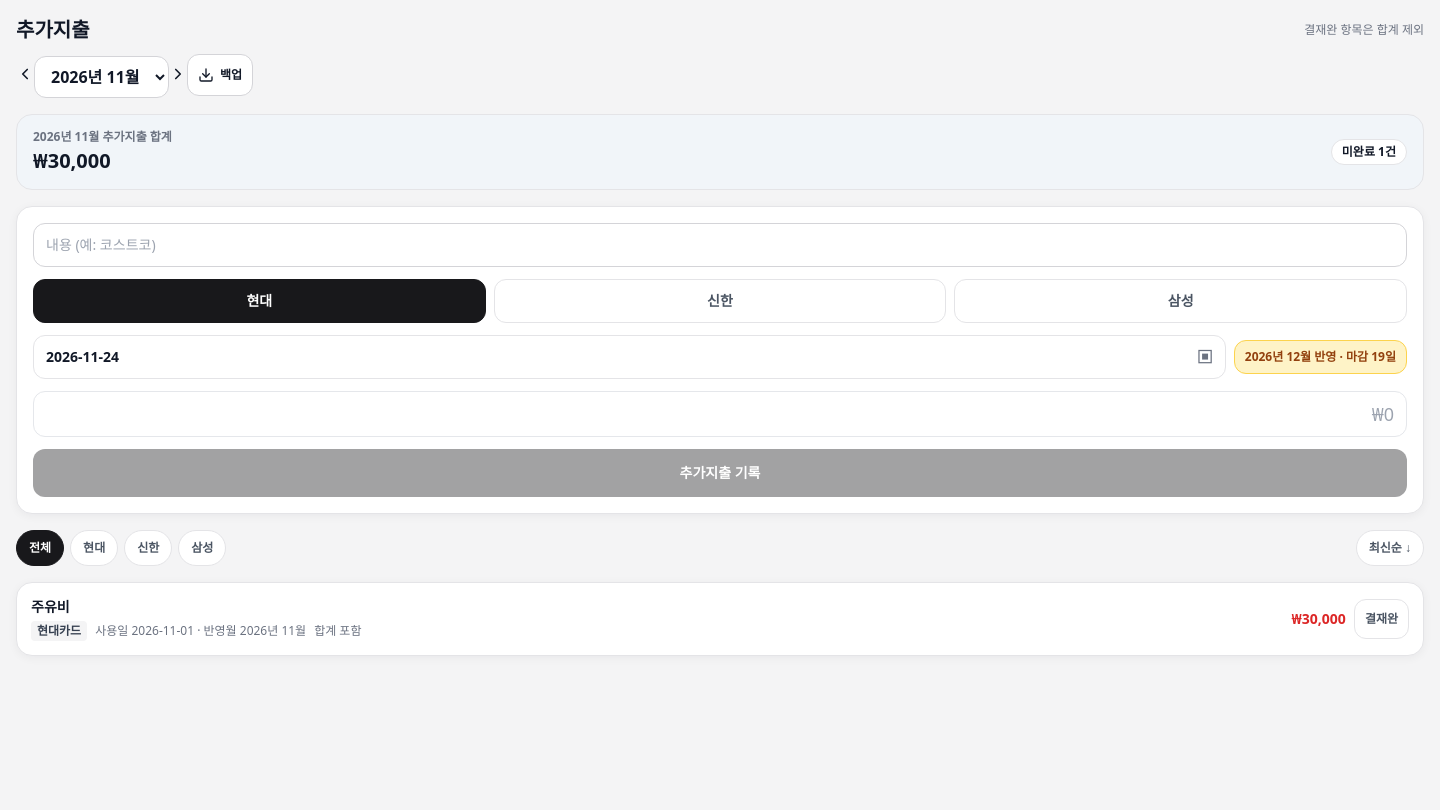
it: ExtraSpendingPage › keeps a settled entry visible, excludes it from the total, and restores it on cancel
The width and height of the screenshot is (1440, 810).
Check: the text "2026년 11월 추가지출 합계 ₩30,000 미완료 1건" is shown, box [16,114,1424,190]
Click the button "결재완".
click(1381, 619)  # box [1354,599,1409,639]
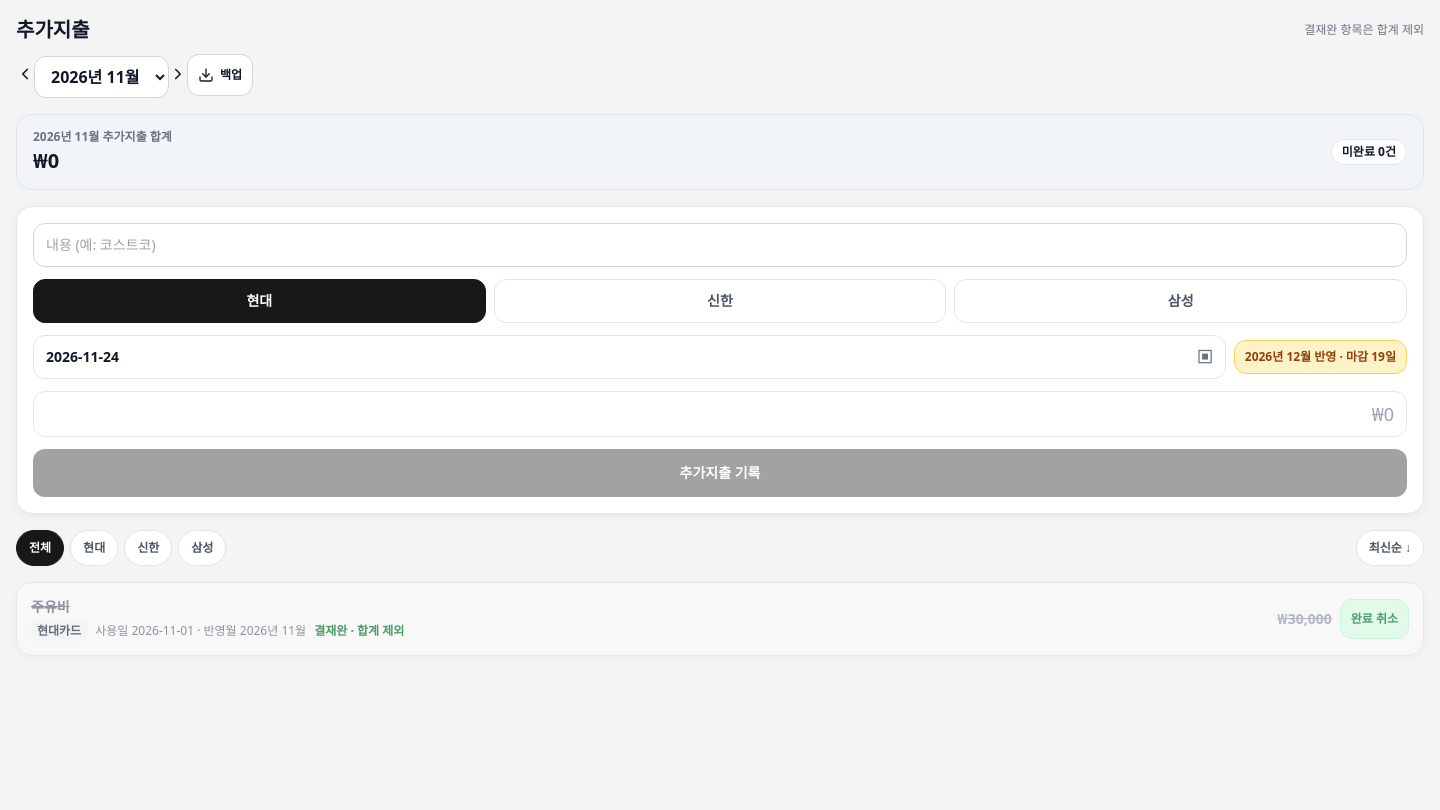
Check: the text "결재완 · 합계 제외" is shown, box [314,623,404,639]
Check: the text "2026년 11월 추가지출 합계 ₩0 미완료 0건" is shown, box [16,114,1424,190]
Click the button "완료 취소".
click(1374, 619)  # box [1340,599,1409,639]
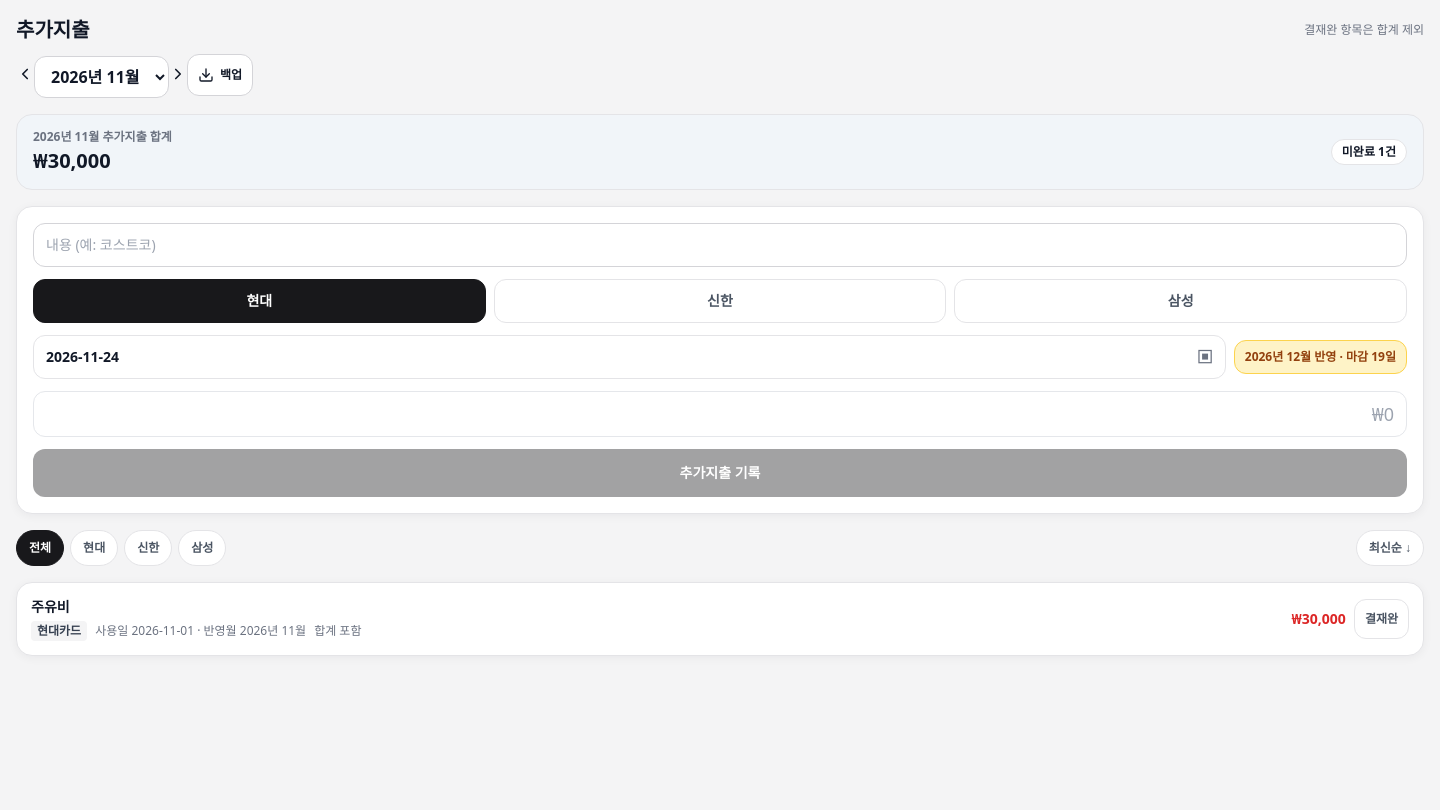
Check: the text "합계 포함" is shown, box [314,623,362,639]
Check: the text "2026년 11월 추가지출 합계 ₩30,000 미완료 1건" is shown, box [16,114,1424,190]
